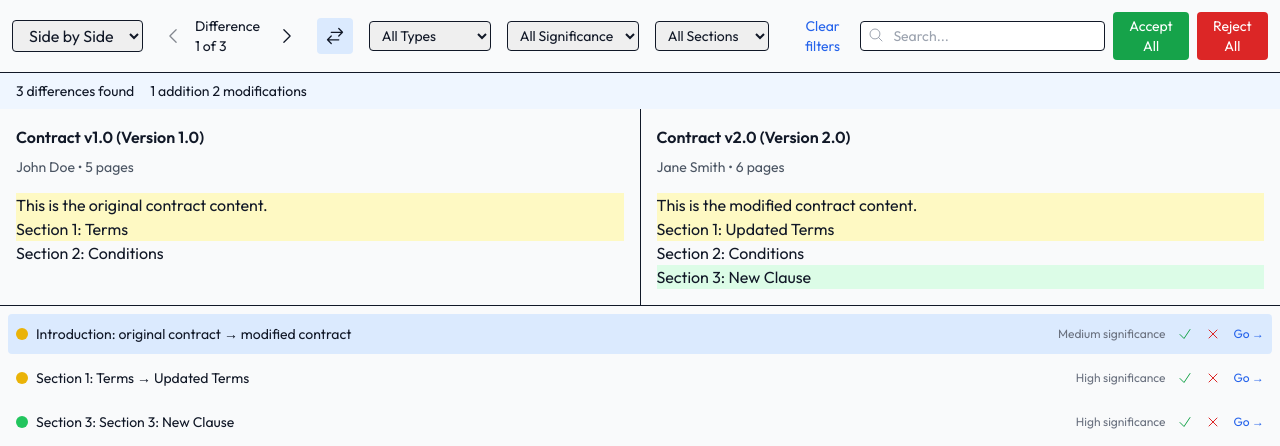
Test: ComparisonView › Filtering › should filter by significance level
This screenshot has width=1280, height=446.
Select "High" in the dropdown named "filter by significance" at [573, 36], box [507, 21, 639, 51]
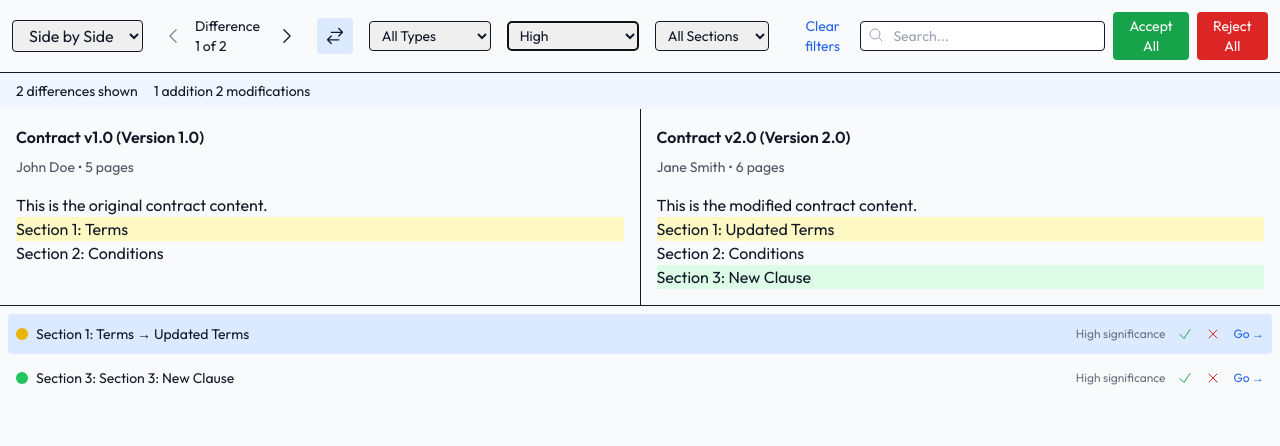
Check: the text "2 differences shown1 addition 2 modifications" is shown, box [16, 81, 310, 101]
